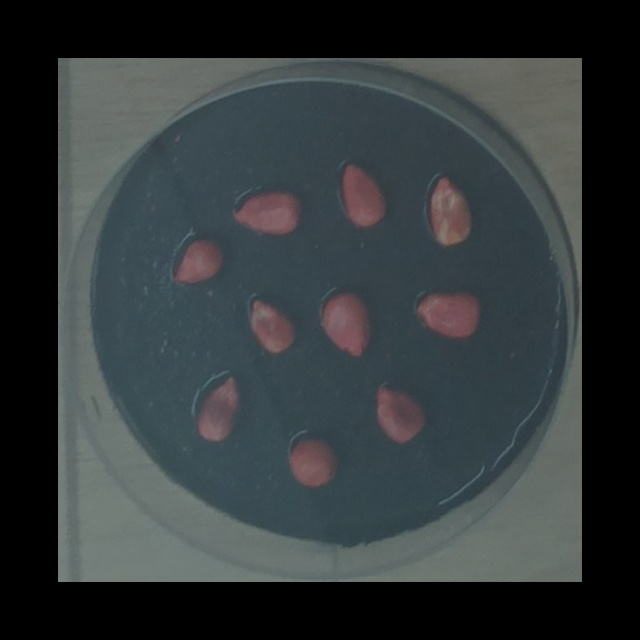Zea mays: (315, 283, 377, 363), (185, 366, 246, 447), (410, 281, 487, 344), (227, 182, 307, 241), (422, 166, 477, 251), (241, 288, 302, 359), (369, 379, 431, 448), (337, 155, 392, 231), (168, 229, 228, 289), (284, 432, 342, 492)
